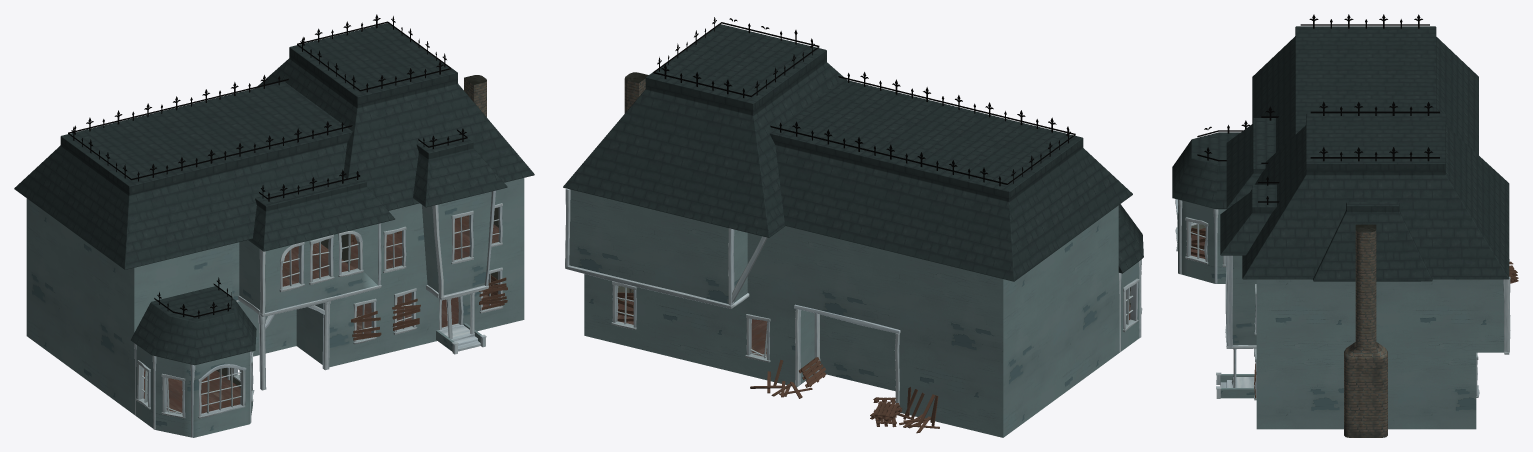
The model's file is house.glb.
3 views of the same model, side by side, from view 1: azimuth 30°, elevation 25°; view 2: azimuth 150°, elevation 25°; view 3: azimuth 270°, elevation 25° (orthographic). The views are drawn at different scales.
Visible parts, largest first — view 1: F2_roof, F0_wall, railing, F0_floor, F0_poles_wood, F1_Floor, F0_poles, F0_Door_wood, windows_wood.010, windows_wood.012, windows_wood.014, windows_wood.011 (+8 smaller); view 2: F2_roof, F0_wall, F0_poles_wood, railing, F0_floor, windows_wood.003, windows_wood.006, F0_fireplace, windows_wood.004, F0_Pallet_grp; view 3: F2_roof, F0_wall, F0_fireplace, railing, F0_poles_wood, windows_wood.008, F0_poles, dorr_wall1.
Boxes of the visible parts, left/top/right/bottom form: F2_roof: left=14, top=23, right=534, bottom=365; F0_wall: left=26, top=178, right=524, bottom=437; railing: left=68, top=14, right=467, bottom=318; F0_floor: left=144, top=291, right=497, bottom=413; F0_poles_wood: left=238, top=190, right=495, bottom=316; F1_Floor: left=282, top=216, right=498, bottom=286; F0_poles: left=134, top=343, right=251, bottom=437; F0_Door_wood: left=439, top=292, right=475, bottom=338; windows_wood.010: left=279, top=242, right=305, bottom=292; windows_wood.012: left=309, top=234, right=334, bottom=285; windows_wood.014: left=451, top=210, right=473, bottom=264; windows_wood.011: left=338, top=231, right=363, bottom=277; F2_roof: left=563, top=24, right=1143, bottom=281; F0_wall: left=569, top=189, right=1139, bottom=437; F0_poles_wood: left=565, top=188, right=900, bottom=404; railing: left=653, top=17, right=1075, bottom=186; F0_floor: left=617, top=296, right=1130, bottom=356; windows_wood.003: left=611, top=281, right=636, bottom=329; windows_wood.006: left=1122, top=278, right=1139, bottom=332; F0_fireplace: left=624, top=72, right=648, bottom=292; windows_wood.004: left=745, top=314, right=770, bottom=362; F0_Pallet_grp: left=870, top=401, right=902, bottom=427; F2_roof: left=1172, top=26, right=1509, bottom=281; F0_wall: left=1178, top=200, right=1504, bottom=429; F0_fireplace: left=1344, top=224, right=1387, bottom=437; railing: left=1197, top=14, right=1439, bottom=204; F0_poles_wood: left=1225, top=255, right=1510, bottom=354; windows_wood.008: left=1185, top=217, right=1208, bottom=264; F0_poles: left=1178, top=199, right=1218, bottom=283; dorr_wall1: left=1220, top=388, right=1254, bottom=398.
Size of what is drawn, in the model's own units: 31.77 by 18.57 by 22.33.
Materials: 9 (8 with a texture image).
